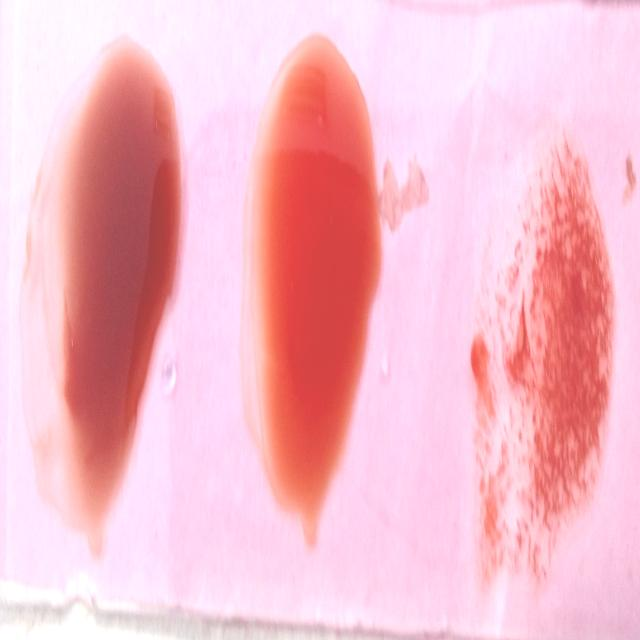D: (470, 125, 608, 583)
